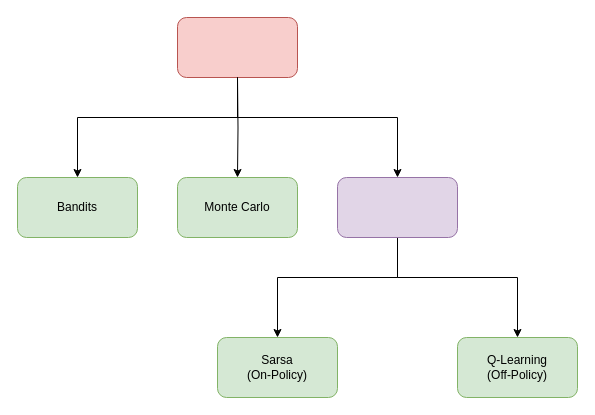
This 595x415 diagram has some shape labels left out. The centre of each missing label's shape, as x and y in pixels:
Aprendizado por Reforço Clássico: (x=237, y=47)
Temporal Difference: (x=397, y=207)
